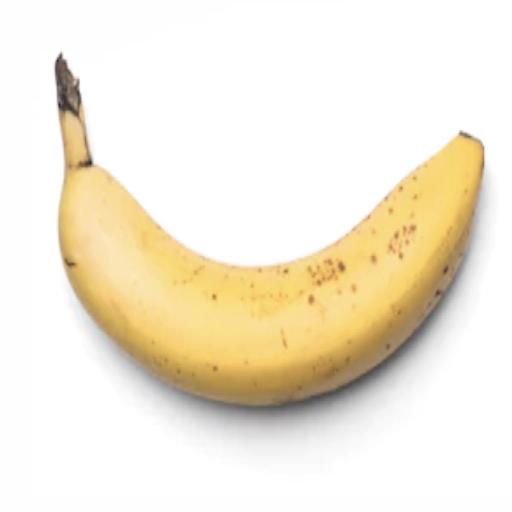banana: (55, 56, 483, 405)
